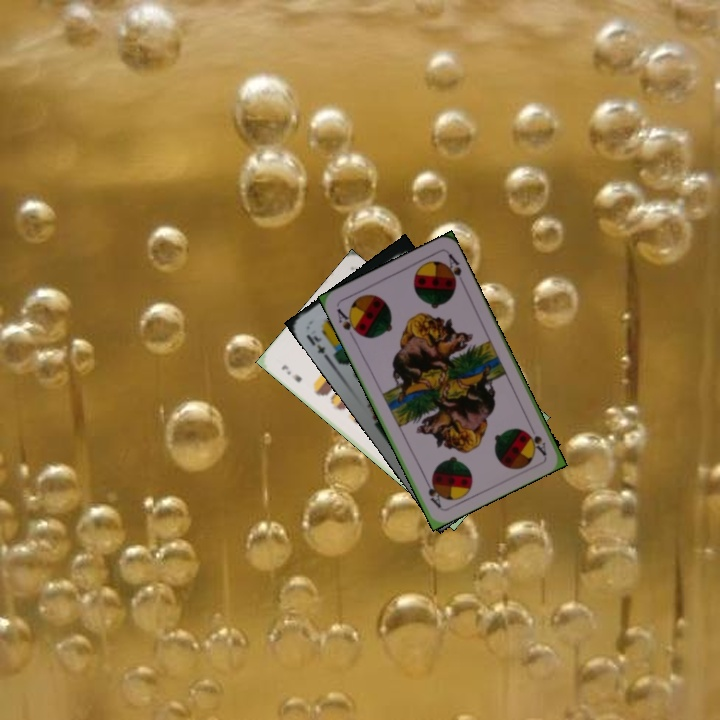E7: (277, 361, 305, 385)
EK: (302, 330, 331, 362)
SA: (523, 420, 549, 458), (333, 304, 362, 338)
